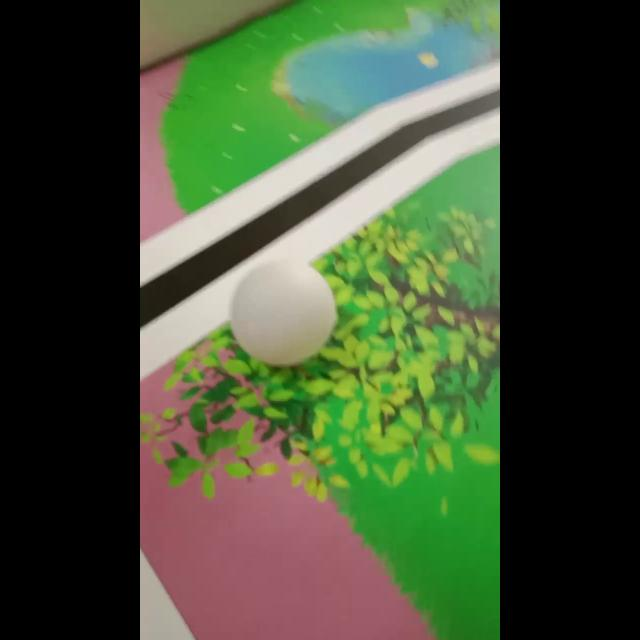white ball: (228, 257, 338, 367)
